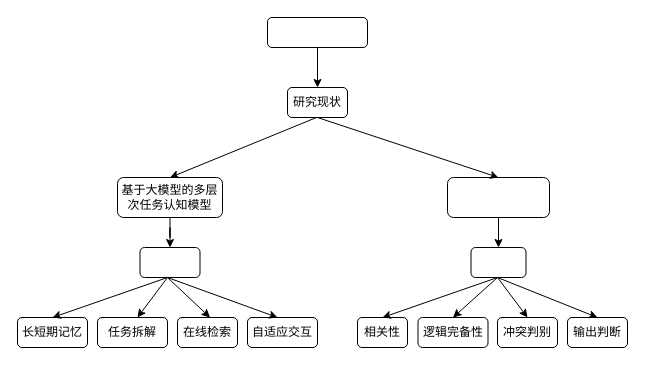
The diagram is 645 pixels wide and 365 high, and some of its shapes have lost their labels. Each missing label, with the centre of its shape:
"判别模块" belongs at (x=498, y=262).
"功能模块" belongs at (x=169, y=262).
"基于多模态视觉的场景认知模型" belongs at (x=498, y=197).
"研究背景和意义" belongs at (x=317, y=32).
